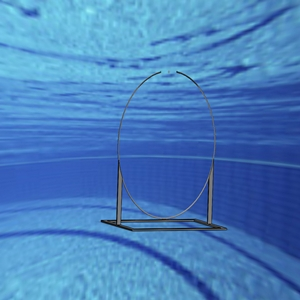circle: (100, 68, 228, 232)
